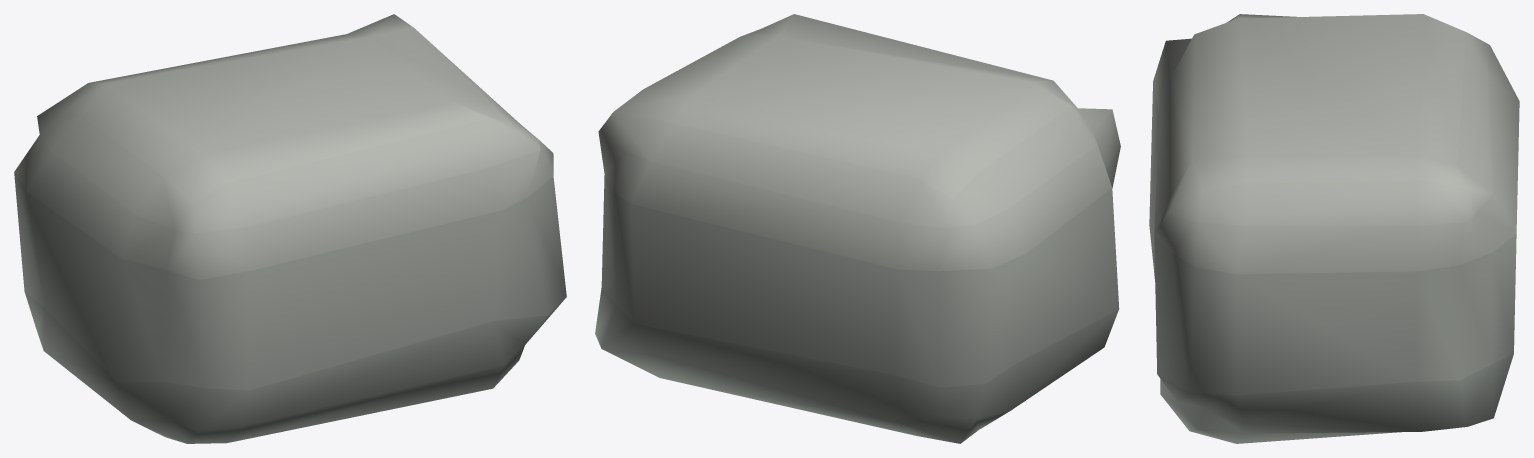
File: rock-11.glb
The picture shows the model from 3 angles, left to right: view 1: azimuth 30°, elevation 25°; view 2: azimuth 150°, elevation 25°; view 3: azimuth 270°, elevation 25°; orthographic projection.
Visible parts, largest first — view 1: weathered rock; view 2: weathered rock; view 3: weathered rock.
Boxes of the visible parts, left/top/right/bottom form: weathered rock: left=14, top=14, right=566, bottom=443; weathered rock: left=595, top=14, right=1120, bottom=443; weathered rock: left=1149, top=14, right=1519, bottom=443.
Bounding box in the file's own units: 2.11 × 1.37 × 1.55.
Materials: 1 (1 with a texture image).
